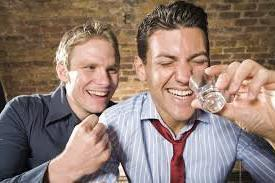Drunk: (152, 29, 206, 117), (69, 46, 119, 110)
